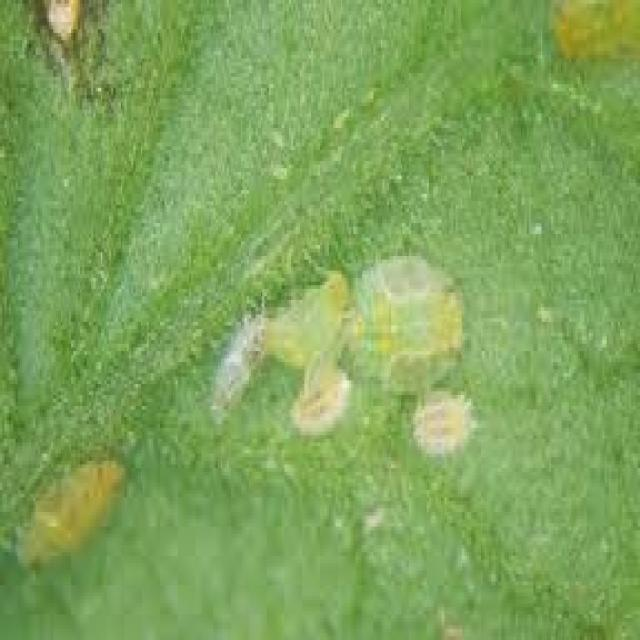Pestalotiopsis: (196, 264, 483, 476), (1, 424, 134, 547), (36, 0, 112, 70)
